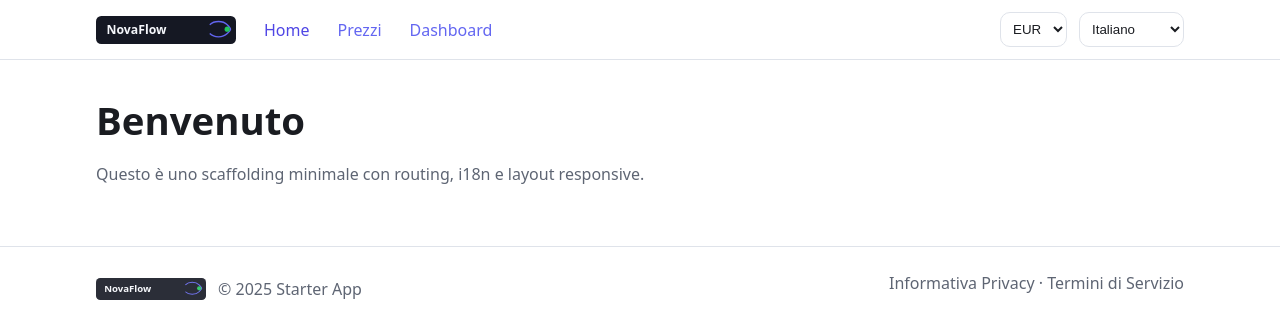
Scenario: Locale routing and persistence › persists user language and updates URL-prefixed links
Expected: the heading "Benvenuto" is shown, [96,94,305,146]
# Switch to English
Select "English" in the dropdown named "language switcher". click: [1132, 30]
box: [1079,12,1184,47]
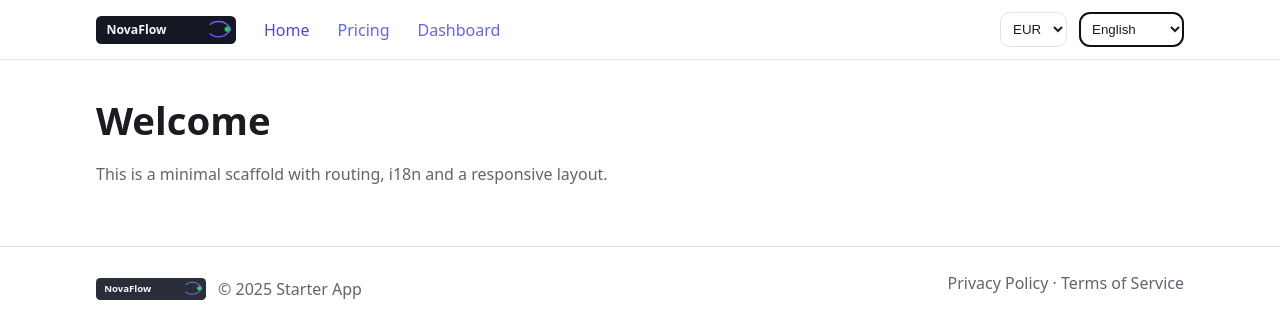
Expected: the heading "Welcome" is shown, [96,94,271,146]
